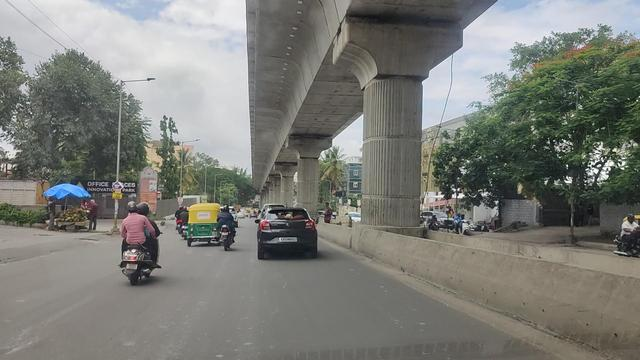LMV: (114, 202, 153, 290), (251, 207, 313, 261), (187, 207, 214, 246), (214, 208, 228, 249)
